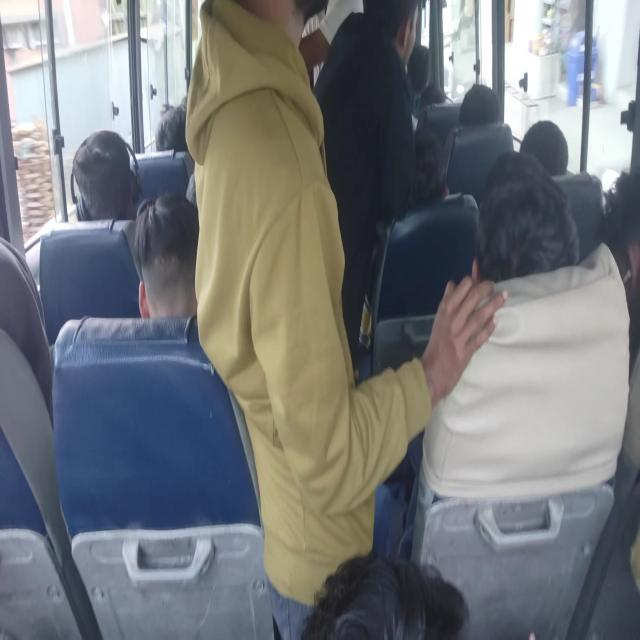person: (186, 3, 320, 170), (382, 125, 458, 384), (472, 154, 582, 288), (601, 162, 640, 518), (300, 553, 465, 637), (0, 229, 54, 434), (134, 192, 202, 322), (445, 82, 510, 201), (354, 0, 423, 98), (70, 129, 142, 213), (412, 125, 449, 206), (520, 119, 569, 178), (407, 43, 438, 126), (153, 95, 190, 155), (459, 83, 499, 126)
